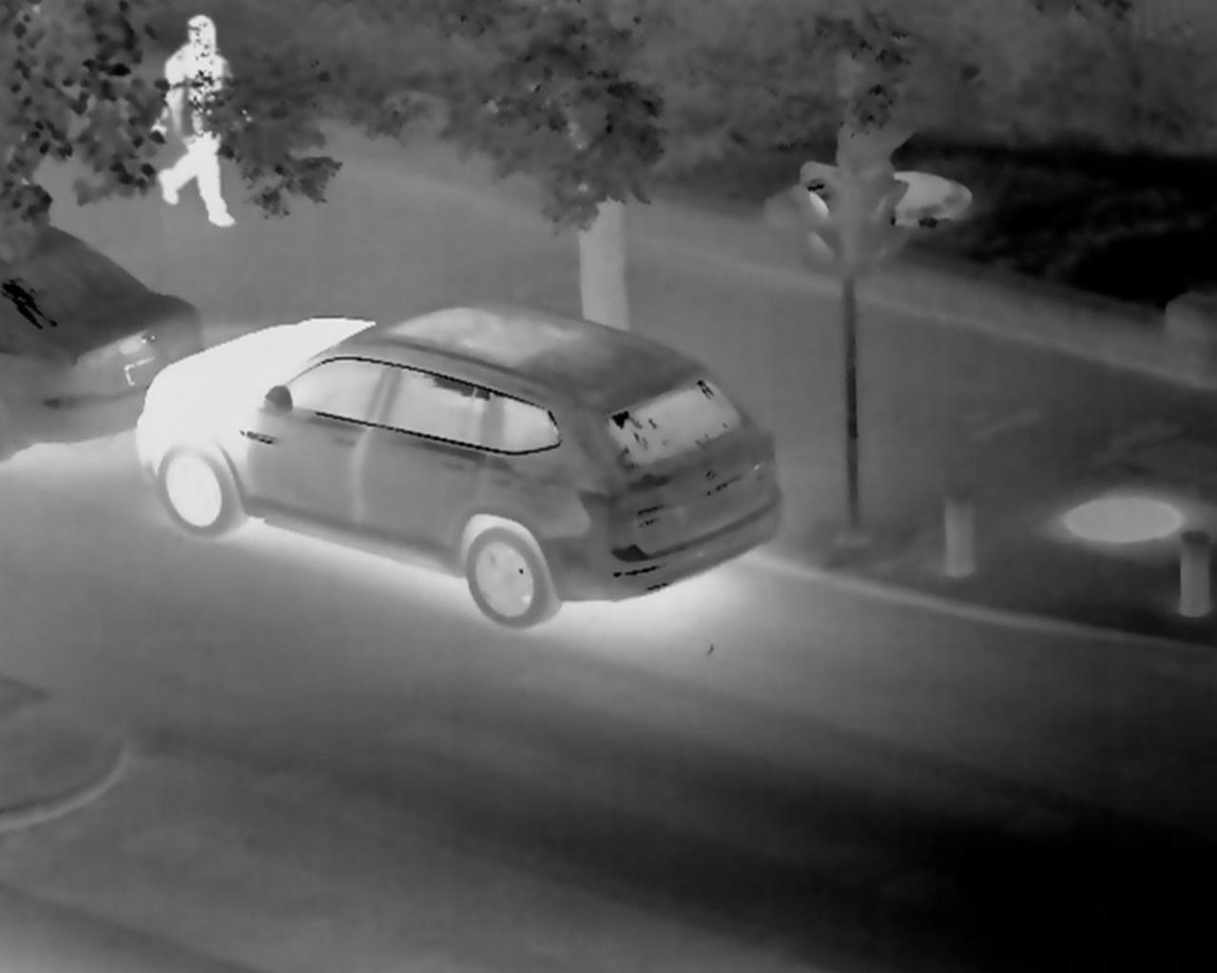person: (148, 8, 252, 239)
